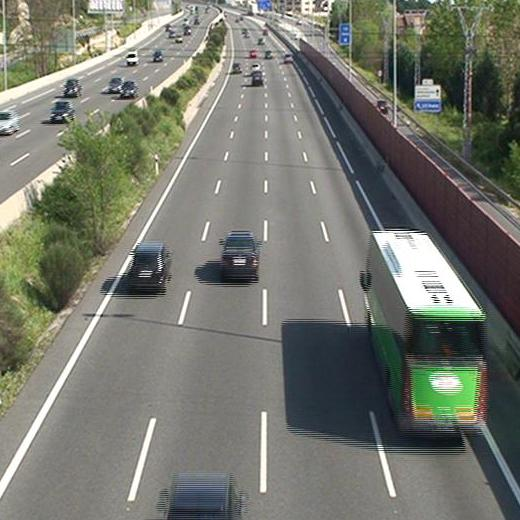bus: (363, 230, 487, 433)
car: (128, 244, 171, 290), (221, 233, 259, 279), (252, 69, 264, 85), (231, 61, 242, 73), (282, 54, 292, 64), (250, 61, 258, 70)
